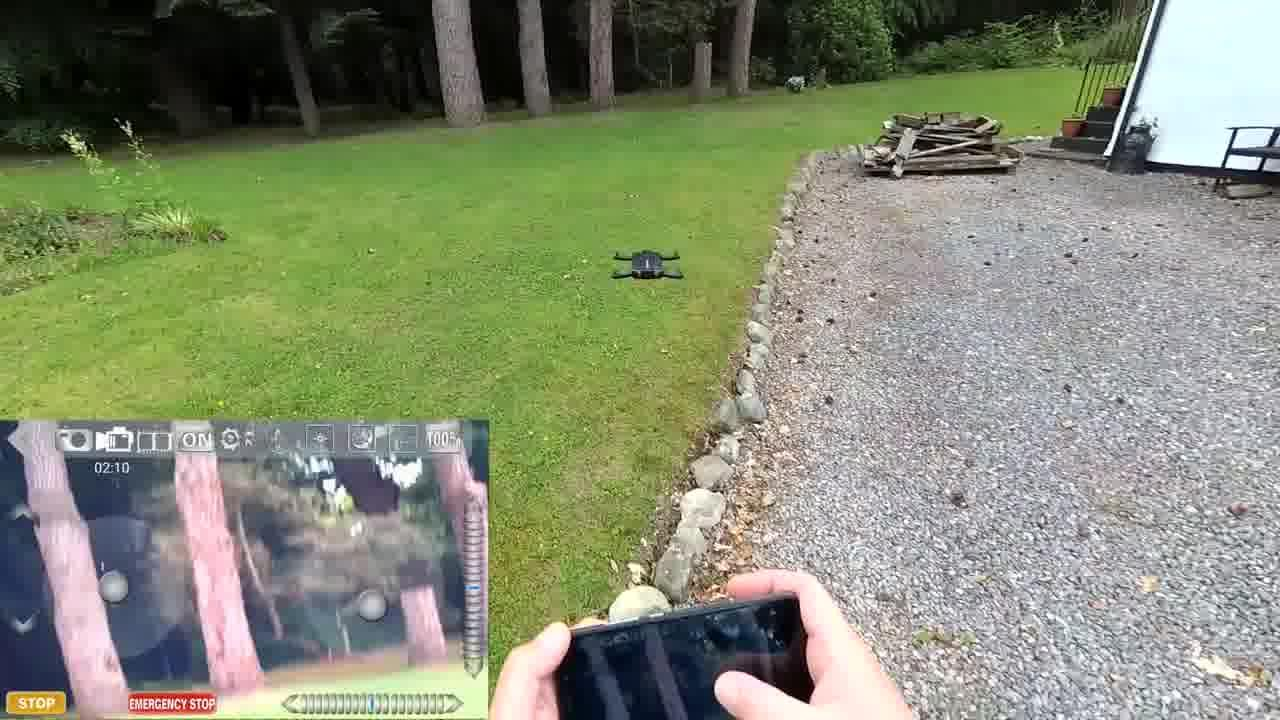drone: (609, 248, 686, 286)
